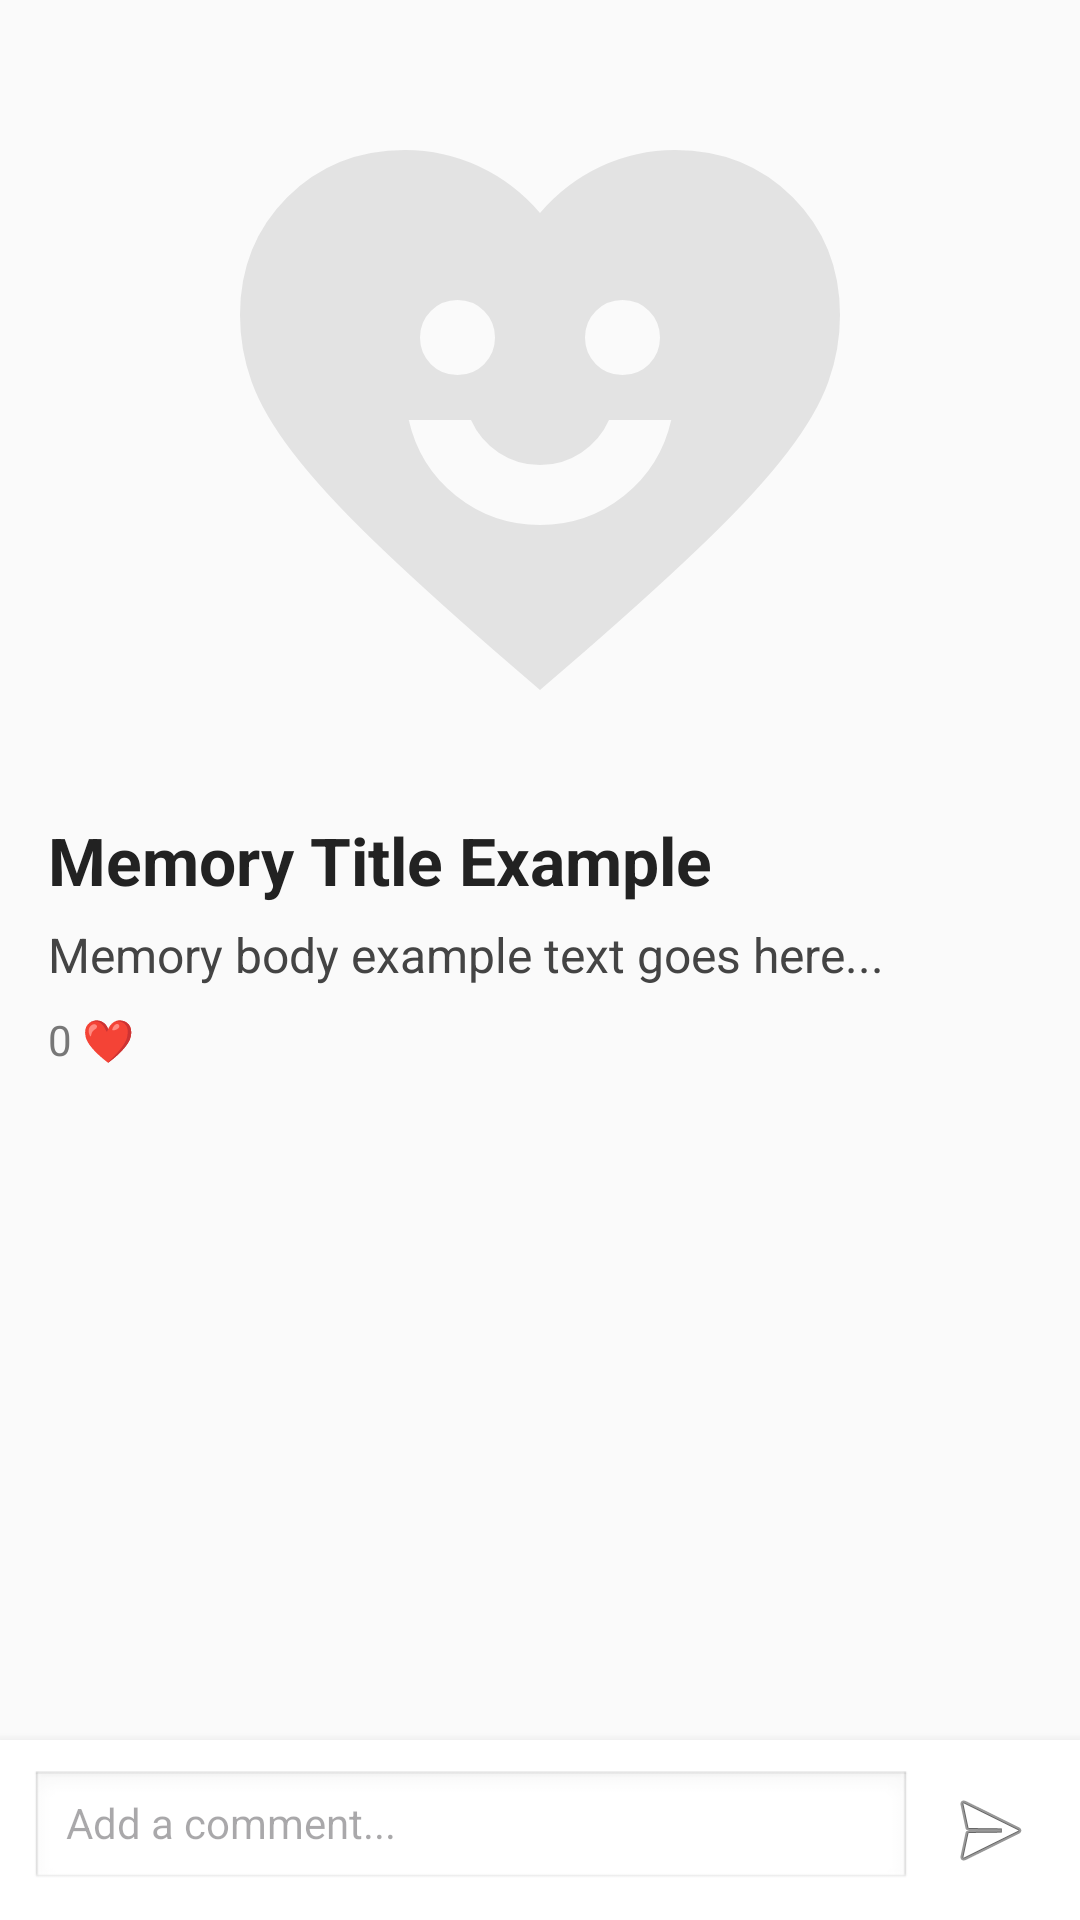

Icons on this 1080x1920 Android screen, each with the point to tap as point (x, y):
send: point (991, 1830)
